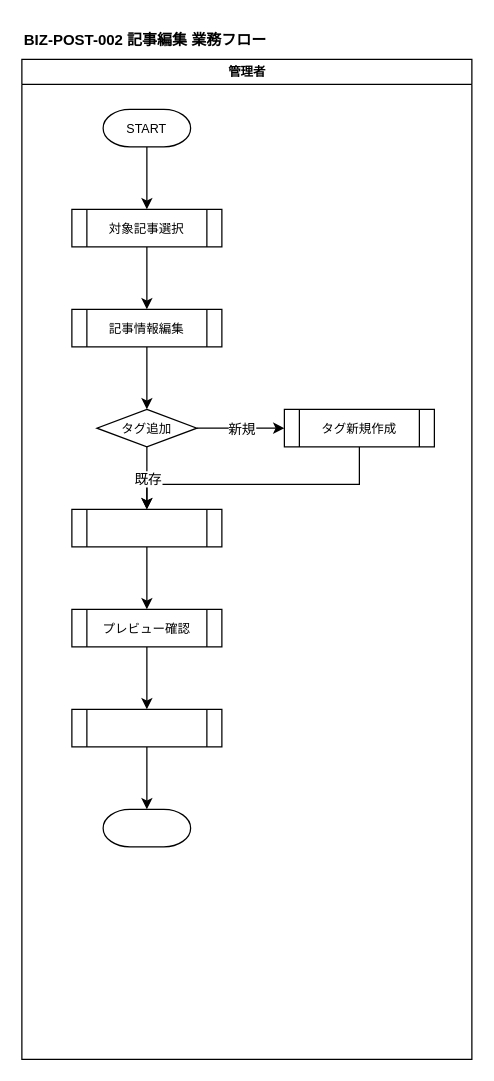
The diagram is 494 pixels wide and 1081 high, and some of its shapes have lost their labels. Each missing label, with the centre of its shape:
"END" goes at pixel 146 827.
"タグ選択" goes at pixel 146 527.
"記事更新" goes at pixel 146 727.
